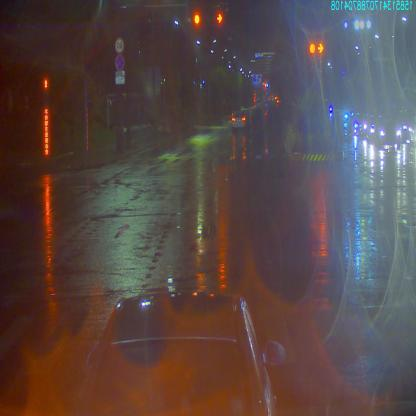traffic-light: (216, 10, 225, 25), (194, 11, 200, 25)
